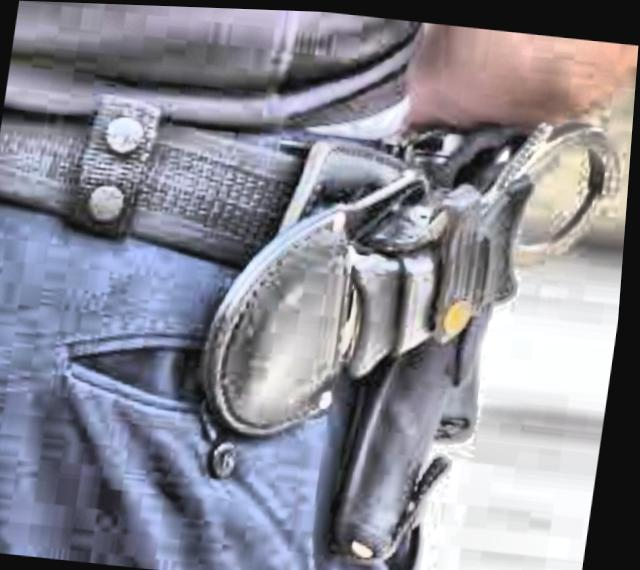pistol: (225, 108, 527, 570)
